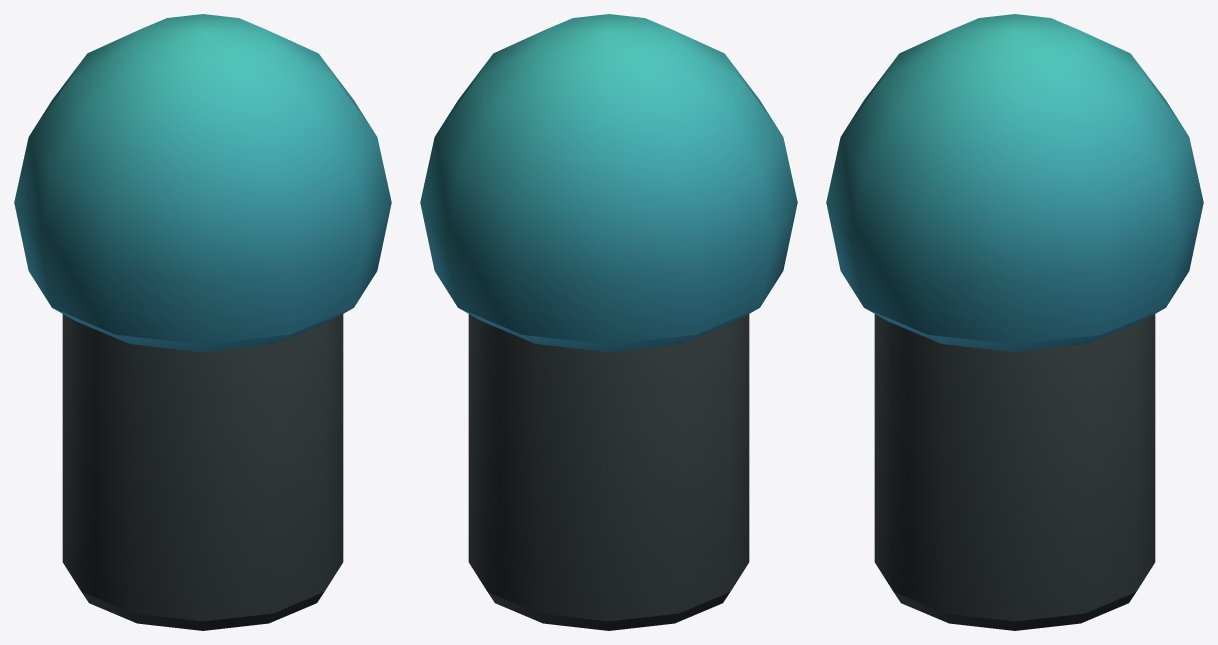
The model's file is matt-generator-head.glb.
3 renders of one model, left to right at view 1: azimuth 30°, elevation 25°; view 2: azimuth 150°, elevation 25°; view 3: azimuth 270°, elevation 25°, orthographic.
Parts seen in each view (by area): view 1: turret_generator_head; view 2: turret_generator_head; view 3: turret_generator_head.
Part boxes in pixels (left/top/right/bottom): turret_generator_head: left=14, top=14, right=391, bottom=630; turret_generator_head: left=420, top=14, right=797, bottom=630; turret_generator_head: left=826, top=14, right=1203, bottom=630.
Bounding box in the file's own units: 1.04 × 1.65 × 1.04.
Materials: 1 (1 with a texture image).
